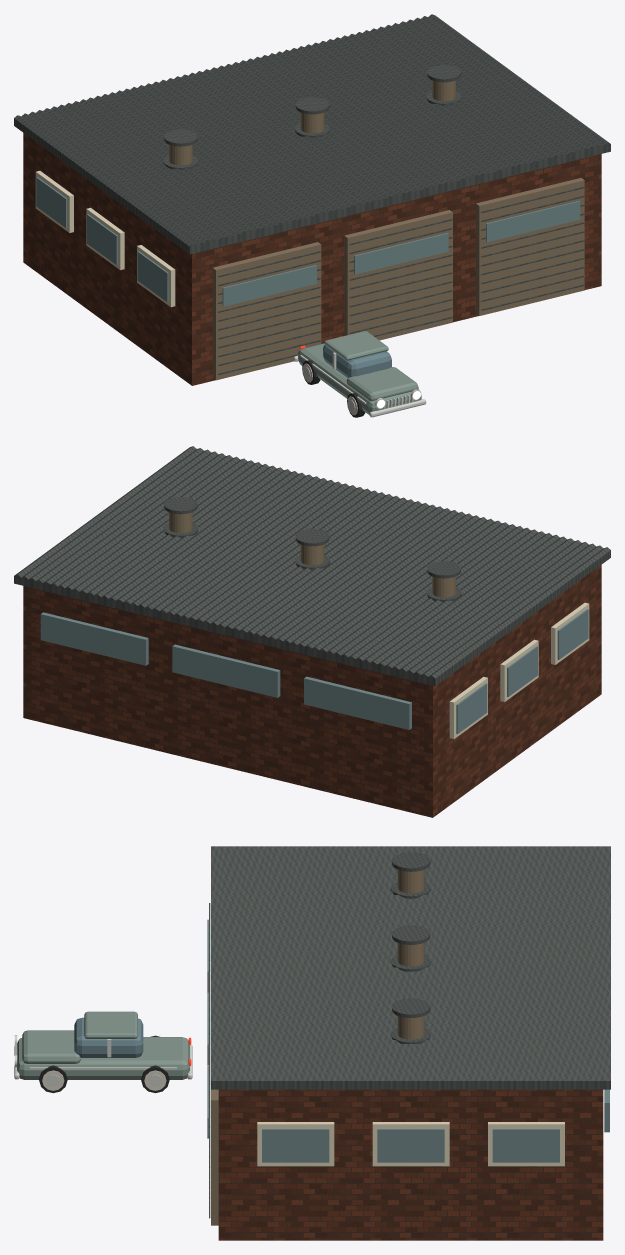
File: dealer.glb
3 renders of one model, top to bottom at view 1: azimuth 30°, elevation 25°; view 2: azimuth 150°, elevation 25°; view 3: azimuth 270°, elevation 25°, orthographic. The views are drawn at different scales.
Parts seen in each view (by area): view 1: vent flashing, workshop, roof vent, workshop glazing, chassis, workshop side window, cabin glass, centre pillar; view 2: vent flashing, workshop, workshop glazing, workshop side window, roof vent; view 3: vent flashing, workshop, workshop glazing, chassis, workshop side window, roof vent, cabin glass, centre pillar, wheel.
Boxes of the visible parts, bbox=[...] form: vent flashing: bbox=[14, 14, 610, 374]; workshop: bbox=[23, 133, 601, 385]; roof vent: bbox=[169, 80, 584, 380]; workshop glazing: bbox=[36, 177, 580, 306]; chassis: bbox=[298, 331, 421, 414]; workshop side window: bbox=[35, 170, 175, 307]; cabin glass: bbox=[323, 345, 391, 377]; centre pillar: bbox=[293, 352, 426, 417]; vent flashing: bbox=[14, 446, 610, 686]; workshop: bbox=[23, 565, 601, 817]; workshop glazing: bbox=[40, 609, 588, 734]; workshop side window: bbox=[449, 602, 589, 738]; roof vent: bbox=[169, 512, 455, 597]; vent flashing: bbox=[209, 846, 610, 1218]; workshop: bbox=[218, 1089, 603, 1240]; workshop glazing: bbox=[207, 919, 609, 1162]; chassis: bbox=[17, 1011, 189, 1079]; workshop side window: bbox=[257, 1122, 564, 1166]; roof vent: bbox=[211, 869, 424, 1225]; cabin glass: bbox=[74, 1017, 143, 1057]; centre pillar: bbox=[14, 1035, 192, 1087]; wheel: bbox=[39, 1035, 169, 1093].
Size of the model in its own units: 14.4 by 5.55 by 15.53.
12 materials, 2 textured.
